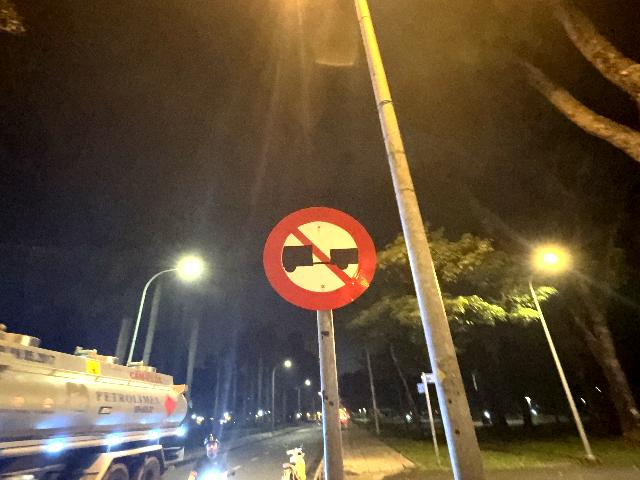cam-xe-somi-romooc: (263, 205, 377, 311)
